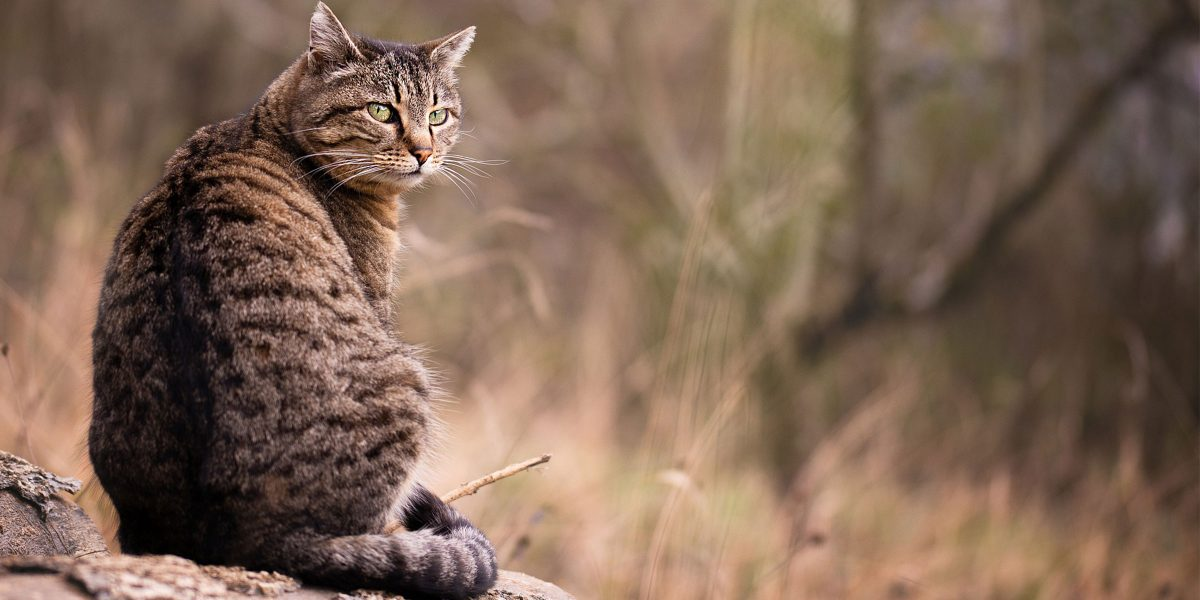Cat: (74, 6, 490, 600)
